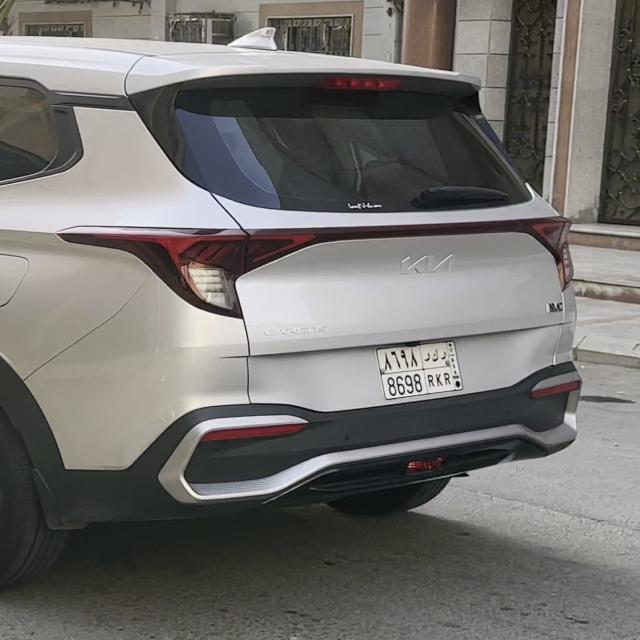Car-plate: (361, 326, 483, 411)
